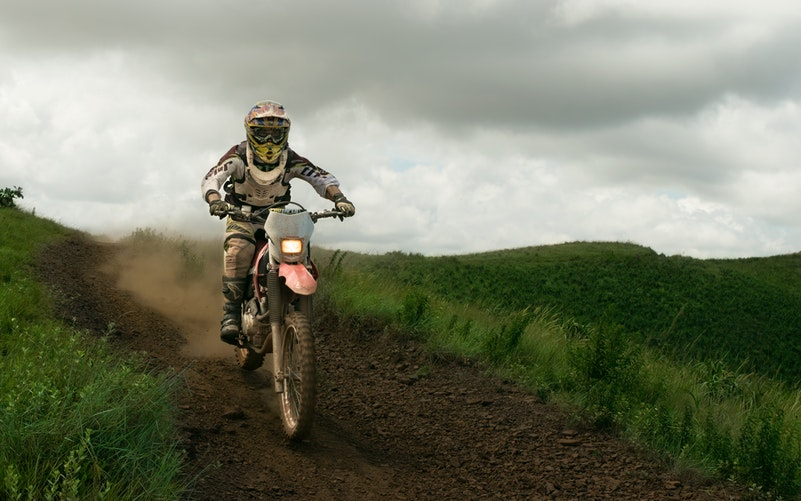helmet: (242, 99, 296, 166)
